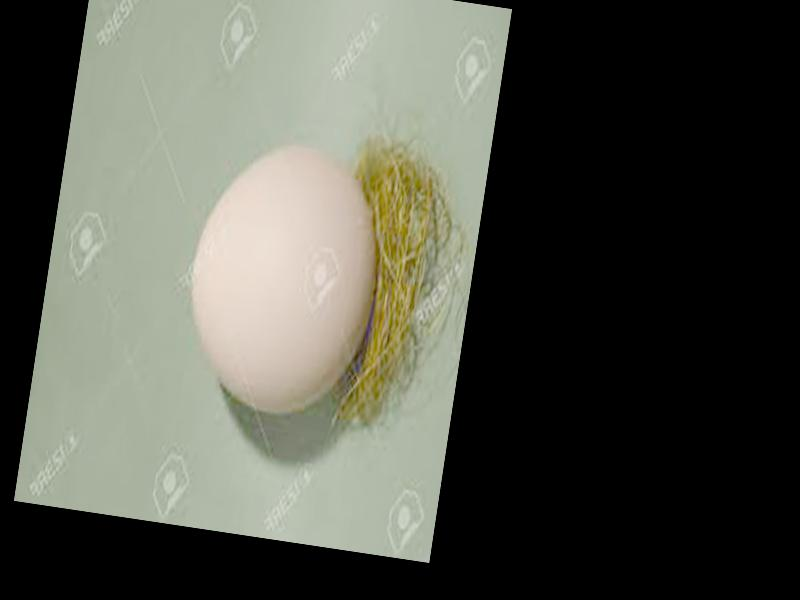Eggs: (172, 134, 390, 424)
